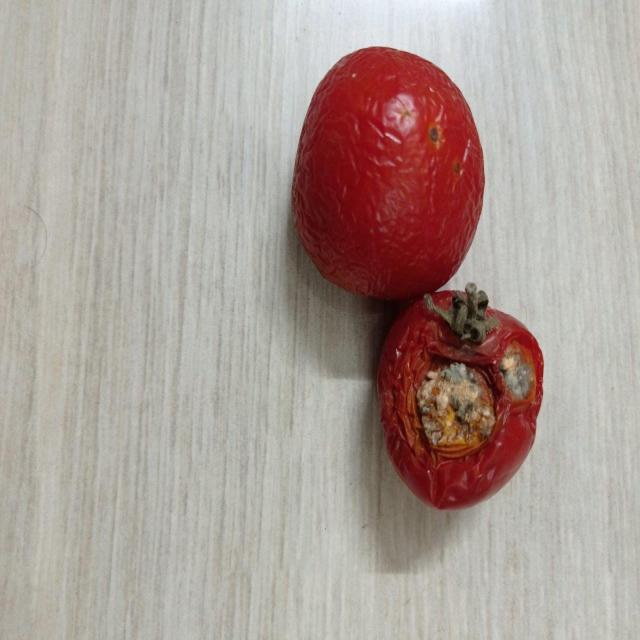Rotten: (372, 287, 545, 514)
